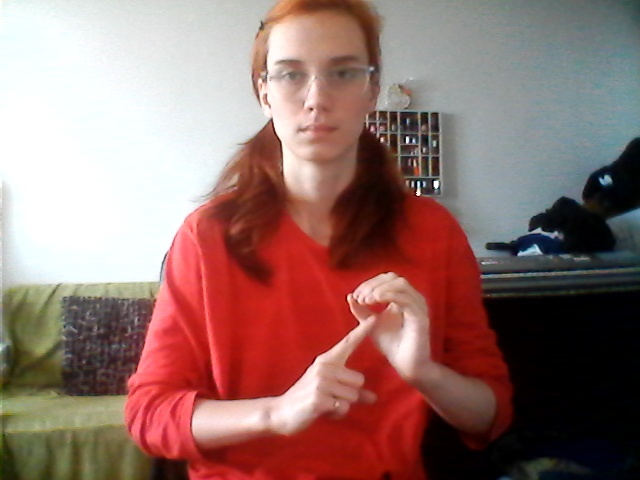q: (282, 266, 452, 436)
